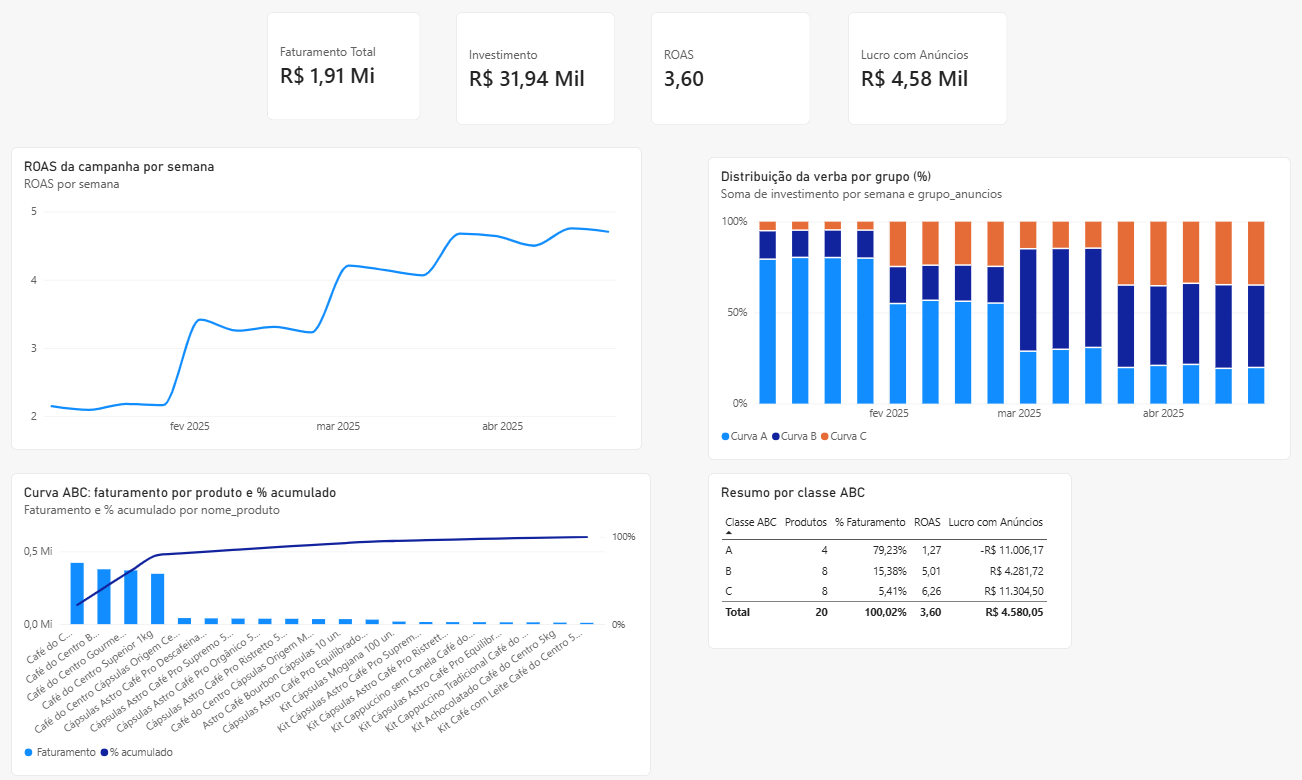

What the dashboard file says about the page in this screenshot:
{"tool":"powerbi","page":{"name":"Página 1","canvas":[1920,1080],"ordinal":0},"visuals":[{"type":"cardVisual","fields":{"Data":["vendas_semanais.Faturamento Total"]},"box":[449.6,43.9,204.3,144.4],"z":0},{"type":"cardVisual","fields":{"Data":["vendas_semanais.Investimento"]},"box":[700.9,43.9,211.6,150.3],"z":1},{"type":"cardVisual","fields":{"Data":["vendas_semanais.ROAS"]},"box":[960.3,43.9,212,150],"z":2},{"type":"cardVisual","fields":{"Data":["vendas_semanais.Lucro com Anúncios"]},"box":[1222.3,43.9,212,150],"z":3},{"type":"lineChart","title":"ROAS da campanha por semana","fields":{"Category":["google_shopping_semanal.semana"],"Y":["vendas_semanais.ROAS"]},"box":[109.1,223.4,839.3,403],"z":4},{"type":"hundredPercentStackedColumnChart","title":"Distribuição da verba por grupo (%)","fields":{"Category":["google_shopping_semanal.semana"],"Series":["google_shopping_semanal.grupo_anuncios"],"Y":["Sum(google_shopping_semanal.investimento)"]},"box":[1036.1,236.7,775.4,403],"z":5},{"type":"tableEx","title":"Resumo por classe ABC","fields":{"Values":["vw_curva_abc.classe_abc","vw_curva_abc.sku","Sum(vw_curva_abc.perc_faturamento)","vendas_semanais.ROAS","Sum(vw_curva_abc.lucro_anuncios)"]},"box":[1036.1,657,484.1,234.1],"z":6},{"type":"lineStackedColumnComboChart","title":" Curva ABC: faturamento por produto e % acumulado","fields":{"Category":["vw_curva_abc.nome_produto"],"Y":["Sum(vw_curva_abc.faturamento)"],"Y2":["Sum(vw_curva_abc.perc_acumulado)"]},"box":[109.1,657,851.2,403],"z":7}]}

Visuals, with their boxes on the page's 1920x1080 design canvas (x1, y1, x2, y2). These are canvas units, not pixel positions in the 1302x780 screenshot, which may show the page scaled, cropped or inside an application window:
cardVisual - vendas_semanais.Faturamento Total: {"x1": 450, "y1": 44, "x2": 654, "y2": 188}
cardVisual - vendas_semanais.Investimento: {"x1": 701, "y1": 44, "x2": 912, "y2": 194}
cardVisual - vendas_semanais.ROAS: {"x1": 960, "y1": 44, "x2": 1172, "y2": 194}
cardVisual - vendas_semanais.Lucro com Anúncios: {"x1": 1222, "y1": 44, "x2": 1434, "y2": 194}
"ROAS da campanha por semana" lineChart: {"x1": 109, "y1": 223, "x2": 948, "y2": 626}
"Distribuição da verba por grupo (%)" hundredPercentStackedColumnChart: {"x1": 1036, "y1": 237, "x2": 1812, "y2": 640}
"Resumo por classe ABC" tableEx: {"x1": 1036, "y1": 657, "x2": 1520, "y2": 891}
" Curva ABC: faturamento por produto e % acumulado" lineStackedColumnComboChart: {"x1": 109, "y1": 657, "x2": 960, "y2": 1060}
